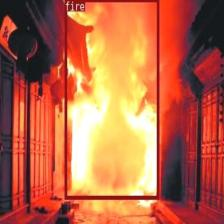fire: (63, 0, 158, 198)
